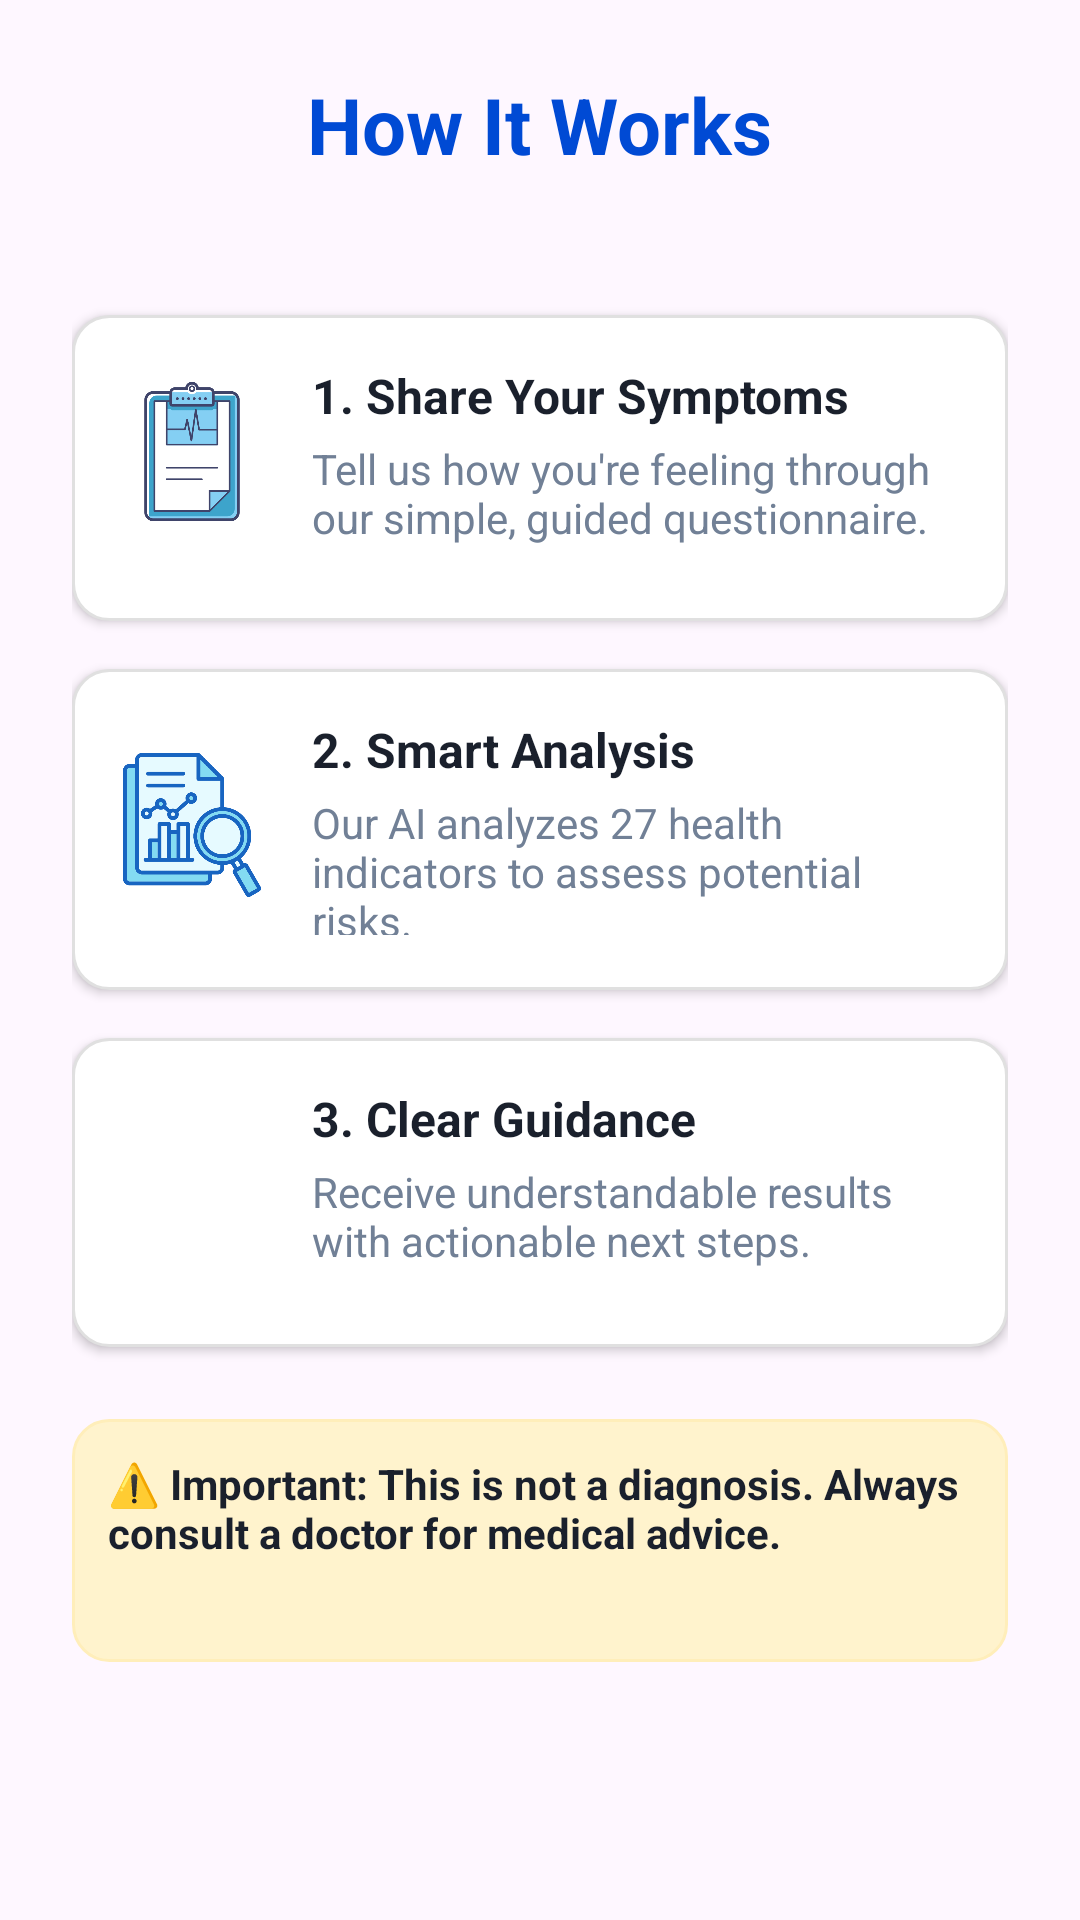

Named icons in this screenshot (1080px×1920px) and their centers, [x,y]:
AI Analysis: [192,825]
Input Symptoms: [192,451]
